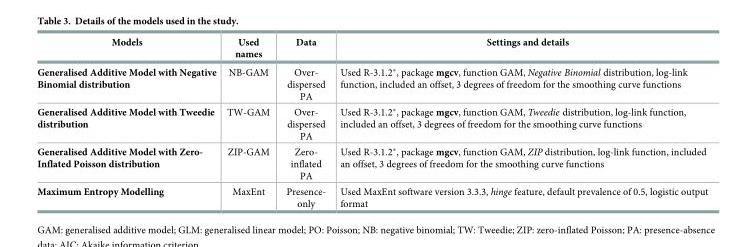table: (36, 36, 707, 208)
table column: (332, 36, 707, 208), (36, 36, 220, 208), (220, 36, 277, 208), (277, 36, 332, 208)
table column header: (36, 36, 707, 62)
table row: (36, 62, 707, 103), (36, 142, 707, 182), (36, 103, 707, 142), (36, 36, 707, 62), (36, 182, 707, 208)
